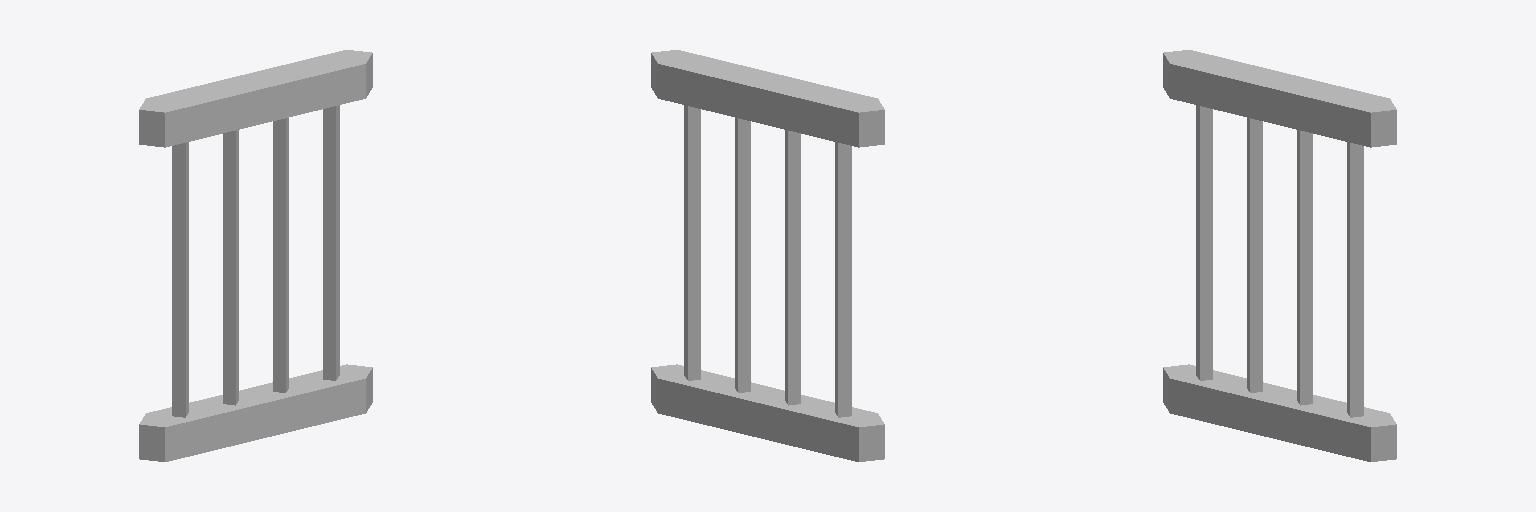
Rendered from Wall_Cell_Door.obj.
3 views of the same model, side by side, from view 1: azimuth 30°, elevation 25°; view 2: azimuth 150°, elevation 25°; view 3: azimuth 330°, elevation 25° (orthographic).
Parts seen in each view (by area): view 1: object1; view 2: object1; view 3: object1.
Part boxes in pixels (x1,y1,x2,y2): object1: (139,50,372,461); object1: (651,50,884,461); object1: (1163,50,1396,461).
Size of the model in its own units: 0.7 by 1 by 0.1.